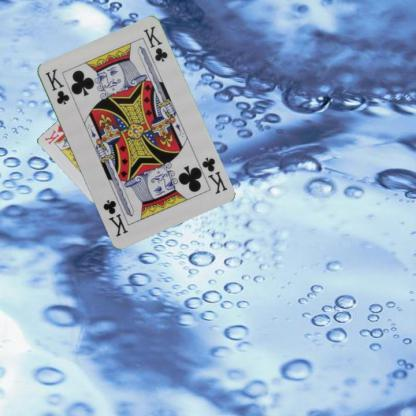Kc: (198, 154, 228, 196), (42, 66, 70, 106)
